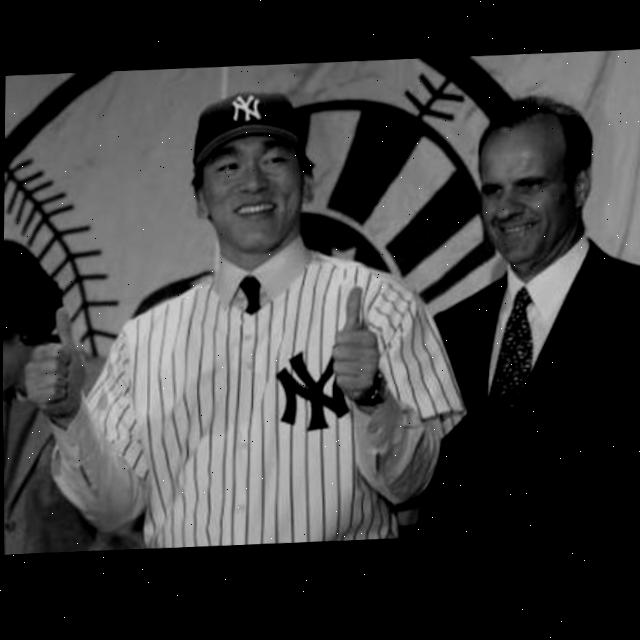face: (480, 115, 593, 268), (192, 133, 318, 261)
